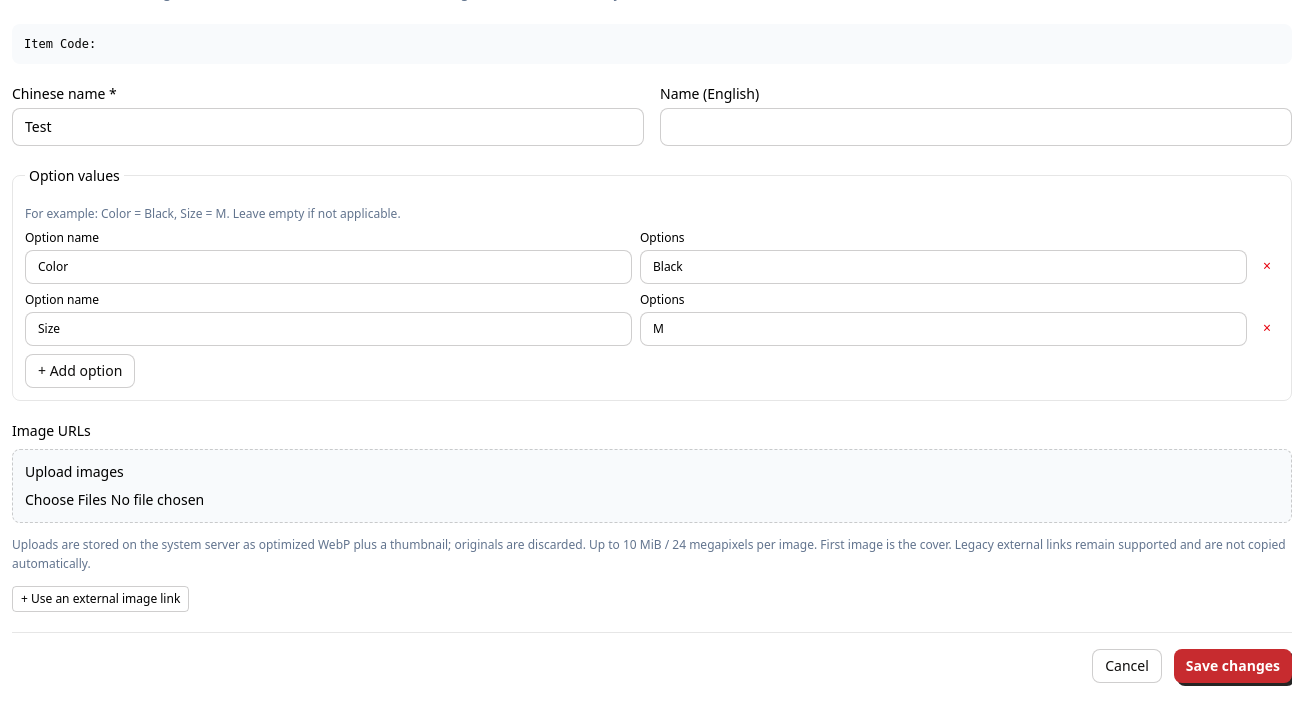
Test: variant forms › prevents saving duplicate specification names
The image size is (1304, 701).
Replace the text in the field named "Option name 2" with " Color ". click: (328, 329)
box: [25,312,632,346]
(page scrolled)
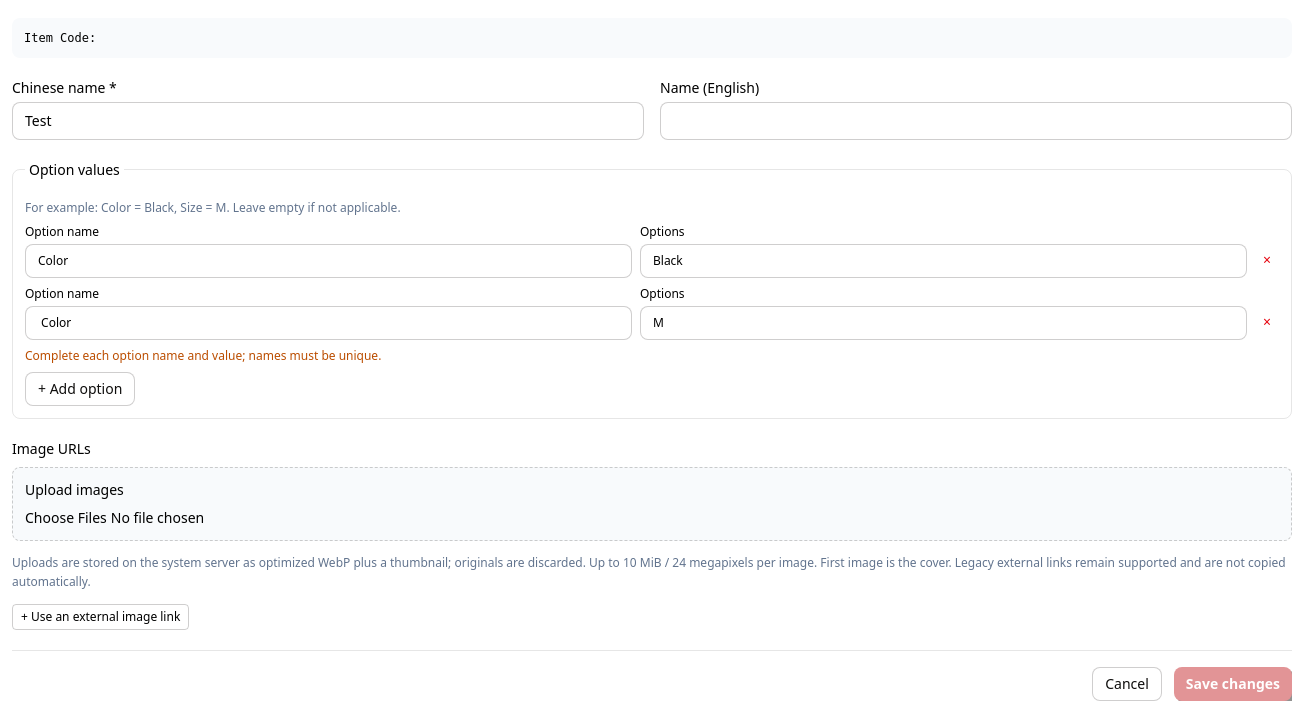
Expected: the button "Save changes" is disabled, [1174,667,1292,700]
